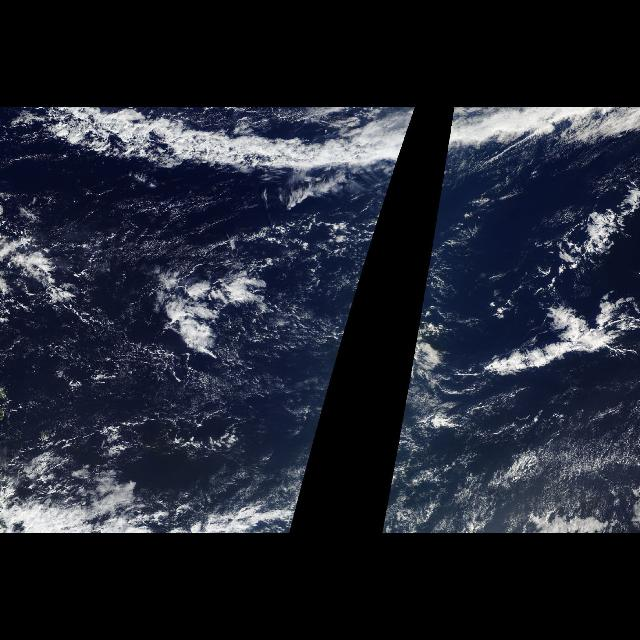Fish: (484, 202, 640, 398), (140, 224, 324, 366)
Sugar: (11, 342, 302, 466), (422, 393, 640, 527), (59, 179, 222, 267)
